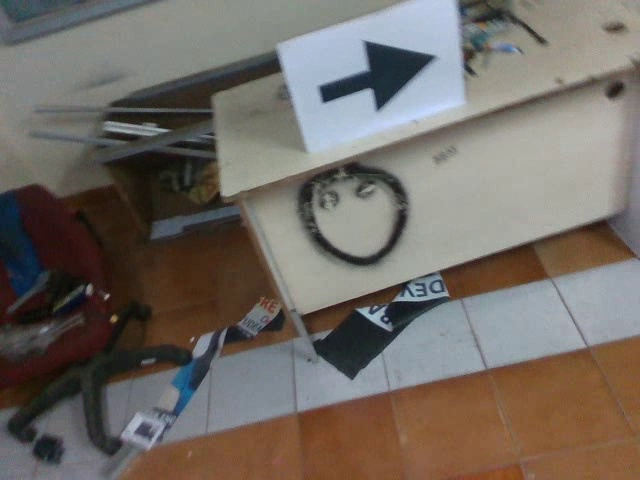Right: (315, 37, 437, 113)
